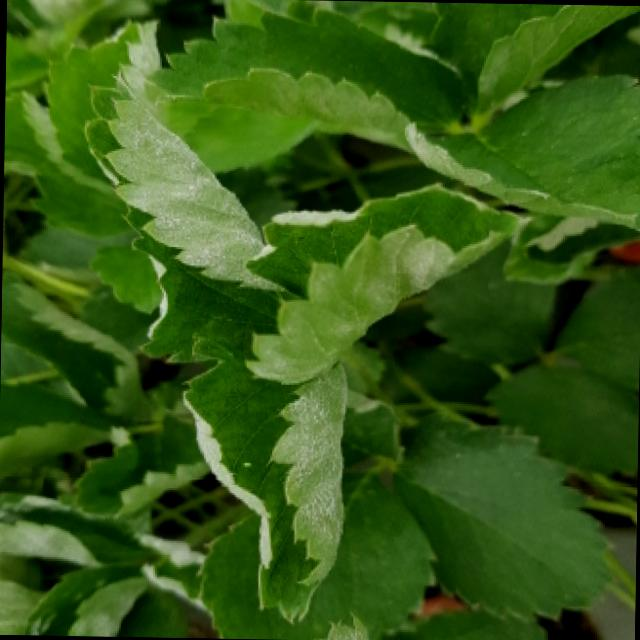Powdery Mildew Leaf: (240, 183, 522, 384), (81, 76, 294, 323), (180, 316, 347, 628), (402, 75, 640, 230), (0, 271, 143, 418), (41, 16, 159, 184), (67, 411, 209, 520), (0, 494, 150, 565), (18, 563, 143, 637), (134, 531, 212, 618), (522, 217, 640, 267)
